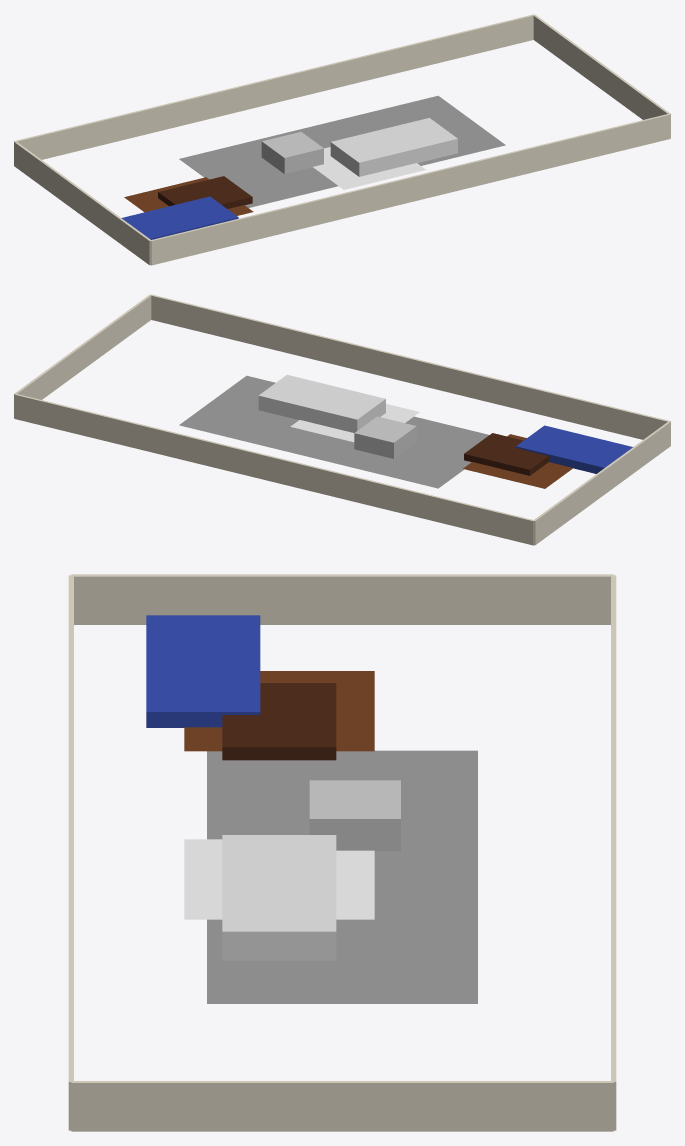
File: boq_professional_153ae431-bc71-46cc-aac6-3e279d6fc373.obj
3 views of the same model, one above another, from view 1: azimuth 30°, elevation 25°; view 2: azimuth 150°, elevation 25°; view 3: azimuth 270°, elevation 25° (orthographic). The views are drawn at different scales.
Parts seen in each view (by area): view 1: ExteriorWall_South, ExteriorWall_North, Foundation, Counter_kitchen_3, ExteriorWall_West, ExteriorWall_East, Sofa_living_room_1, Fridge_kitchen_3, CoffeeTable_living_room_1, Floor_kitchen_3, Floor_living_room_1; view 2: ExteriorWall_North, ExteriorWall_South, Foundation, Counter_kitchen_3, ExteriorWall_West, ExteriorWall_East, Sofa_living_room_1, CoffeeTable_living_room_1, Fridge_kitchen_3, Floor_living_room_1, Floor_kitchen_3; view 3: Foundation, ExteriorWall_East, ExteriorWall_West, Counter_kitchen_3, Sofa_living_room_1, CoffeeTable_living_room_1, Fridge_kitchen_3, Floor_kitchen_3, Floor_living_room_1, ExteriorWall_North, ExteriorWall_South.
Part boxes in pixels (left/top/right/bottom): ExteriorWall_South: left=150, top=114, right=670, bottom=265; ExteriorWall_North: left=14, top=14, right=533, bottom=159; Foundation: left=179, top=95, right=505, bottom=207; Counter_kitchen_3: left=330, top=118, right=457, bottom=176; ExteriorWall_West: left=14, top=141, right=150, bottom=265; ExteriorWall_East: left=533, top=14, right=670, bottom=137; Sofa_living_room_1: left=121, top=196, right=238, bottom=239; Fridge_kitchen_3: left=261, top=132, right=323, bottom=174; CoffeeTable_living_room_1: left=158, top=176, right=252, bottom=208; Floor_kitchen_3: left=313, top=147, right=425, bottom=189; Floor_living_room_1: left=124, top=177, right=253, bottom=215; ExteriorWall_North: left=14, top=394, right=534, bottom=545; ExteriorWall_South: left=151, top=294, right=670, bottom=439; Foundation: left=179, top=375, right=488, bottom=488; Counter_kitchen_3: left=258, top=374, right=385, bottom=432; ExteriorWall_West: left=533, top=421, right=670, bottom=545; ExteriorWall_East: left=14, top=294, right=151, bottom=417; Sofa_living_room_1: left=516, top=425, right=632, bottom=473; CoffeeTable_living_room_1: left=464, top=433, right=548, bottom=475; Fridge_kitchen_3: left=354, top=416, right=416, bottom=458; Floor_living_room_1: left=463, top=434, right=573, bottom=488; Floor_kitchen_3: left=290, top=404, right=419, bottom=442; Foundation: left=207, top=750, right=477, bottom=1003; ExteriorWall_East: left=71, top=1081, right=613, bottom=1131; ExteriorWall_West: left=71, top=574, right=613, bottom=624; Counter_kitchen_3: left=222, top=835, right=336, bottom=960; Sofa_living_room_1: left=146, top=615, right=260, bottom=727; CoffeeTable_living_room_1: left=222, top=683, right=336, bottom=760; Fridge_kitchen_3: left=309, top=780, right=400, bottom=851; Floor_kitchen_3: left=184, top=839, right=374, bottom=919; Floor_living_room_1: left=184, top=671, right=374, bottom=751; ExteriorWall_North: left=611, top=575, right=616, bottom=1130; ExteriorWall_South: left=68, top=575, right=73, bottom=1130.
Bounding box in the file's own units: 67.38 × 3 × 30.66.
